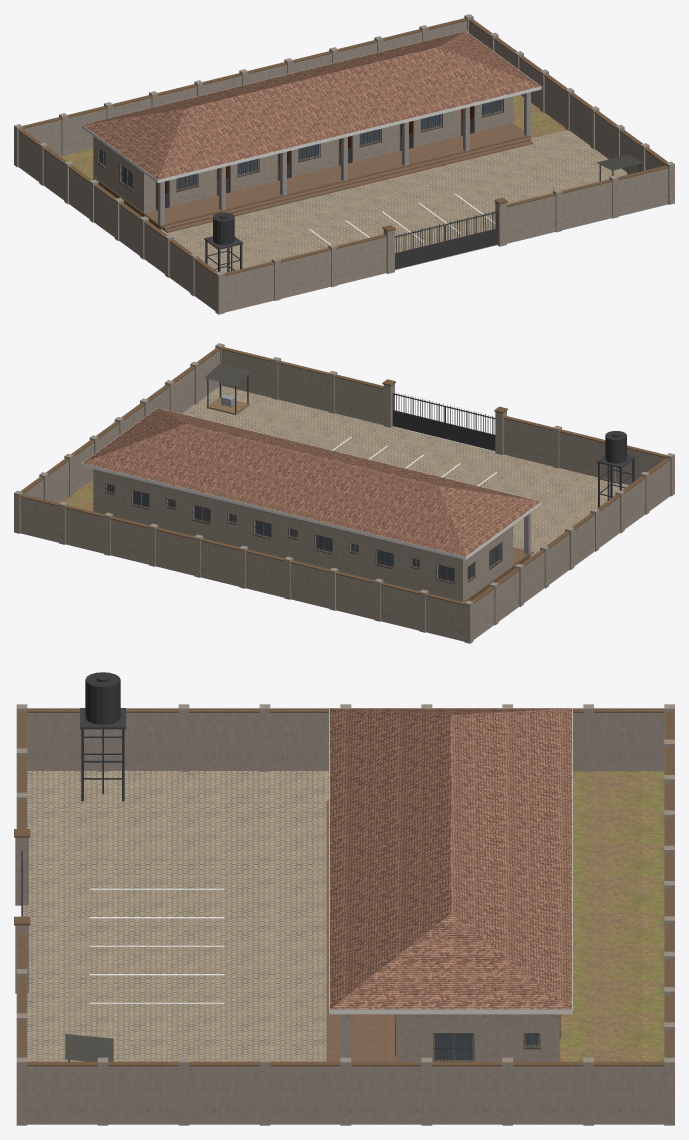
File: room_exterior.glb
3 renders of one model, top to bottom at view 1: azimuth 30°, elevation 25°; view 2: azimuth 150°, elevation 25°; view 3: azimuth 270°, elevation 25°, orthographic. The views are drawn at different scales.
Visible parts, largest first — view 1: room_exterior_static, gate_right_mesh, gate_left_mesh; view 2: room_exterior_static, gate_right_mesh, gate_left_mesh; view 3: room_exterior_static.
Boxes of the visible parts, x1,y1,x2,y2 form: room_exterior_static: (14, 14, 674, 314); gate_right_mesh: (445, 210, 497, 257); gate_left_mesh: (395, 223, 445, 269); room_exterior_static: (14, 343, 674, 643); gate_right_mesh: (392, 392, 444, 438); gate_left_mesh: (444, 405, 495, 450); room_exterior_static: (14, 672, 674, 1125).
Bounding box in the file's own units: 31.4 × 5.42 × 24.5.
25 materials, 11 textured.
